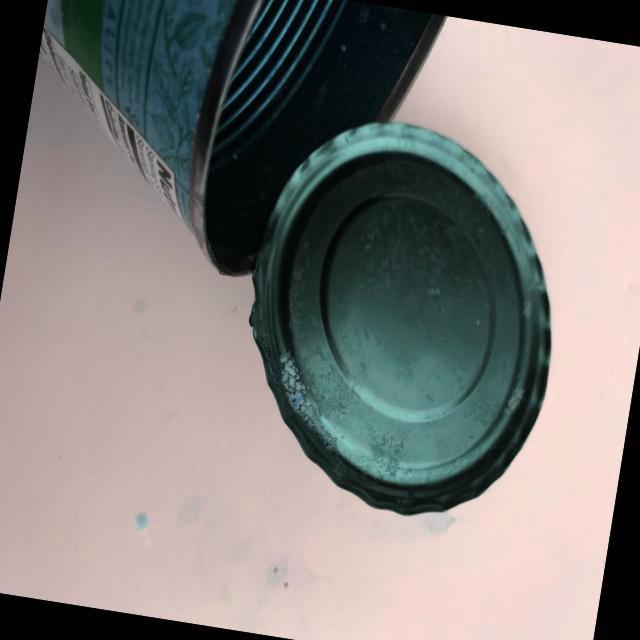metal: (0, 0, 621, 544)
